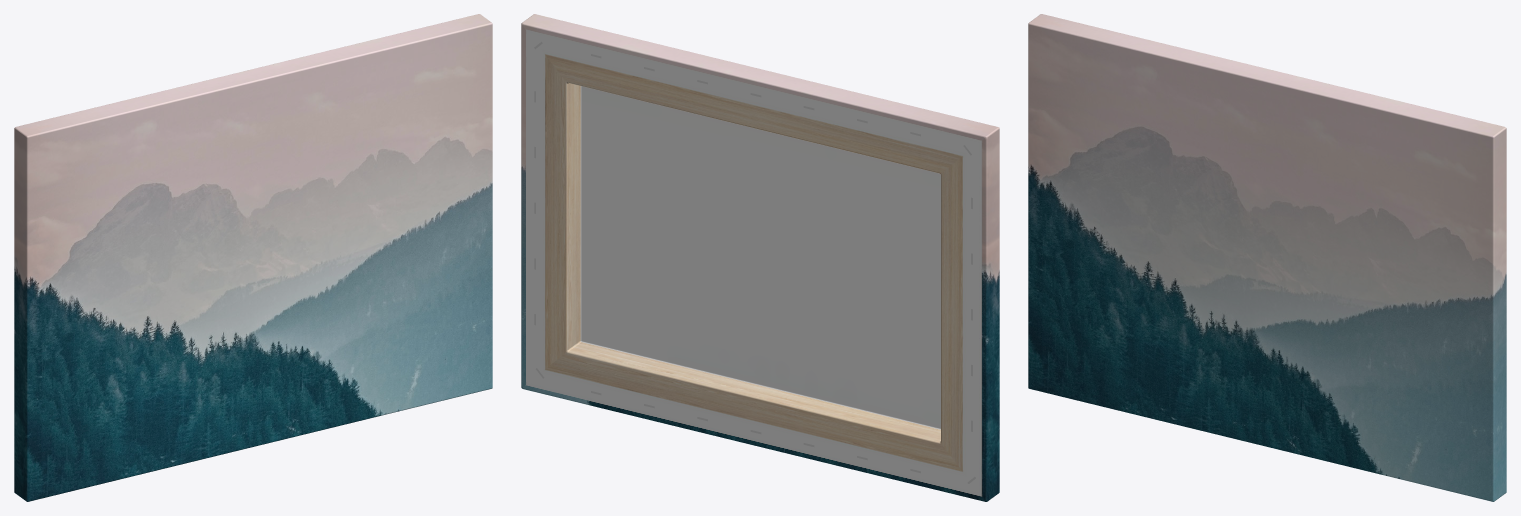
Rendered from canvas.gltf.
3 renders of one model, left to right at view 1: azimuth 30°, elevation 25°; view 2: azimuth 150°, elevation 25°; view 3: azimuth 330°, elevation 25°, orthographic.
Visible parts, largest first — view 1: Cube; view 2: Cube; view 3: Cube.
Boxes of the visible parts, <box> form: Cube: <box>14,14,492,501</box>; Cube: <box>521,14,999,501</box>; Cube: <box>1028,14,1506,501</box>.
Bounding box in the file's own units: 1.33 × 0.9995 × 0.0673.
2 materials, 1 textured.
